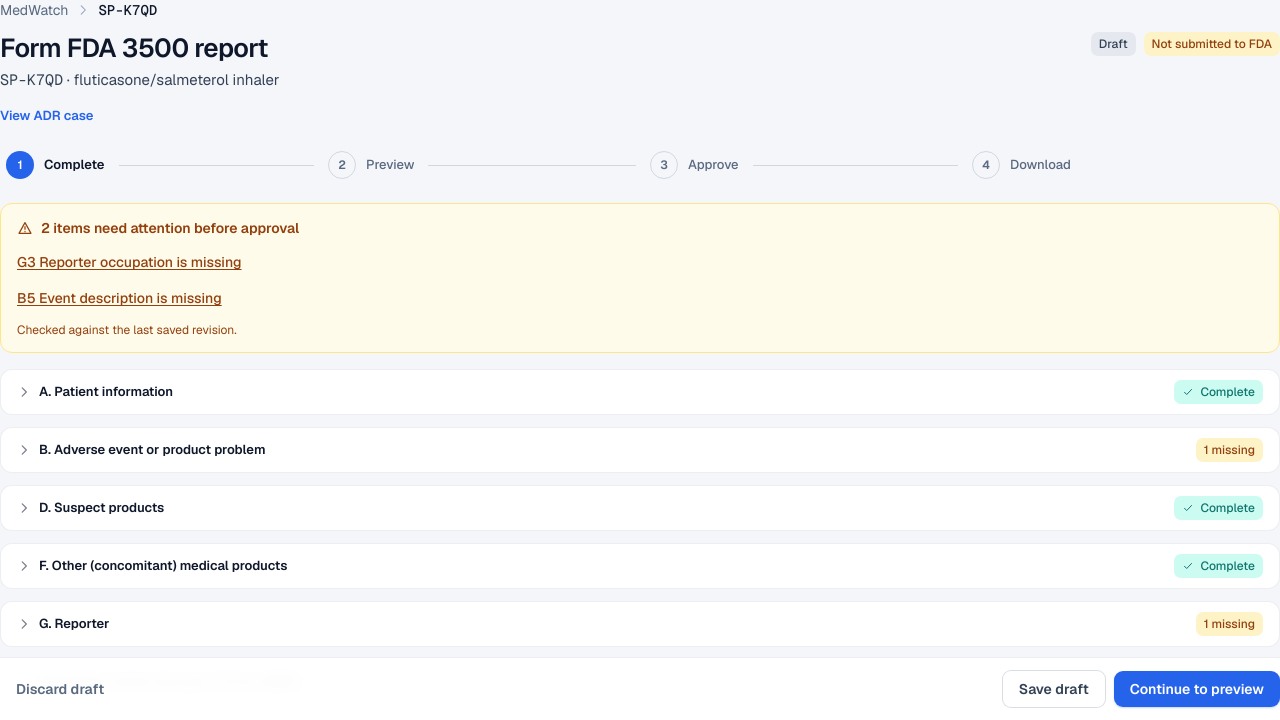
Test: MedWatch report workspace › blocks approval while gate issues remain and sends the user back to fix them
Check: the button "Continue to preview" is shown, box [1114,671,1279,707]
Click the button "3 Approve" at [694, 165], box [644,147,745,183]
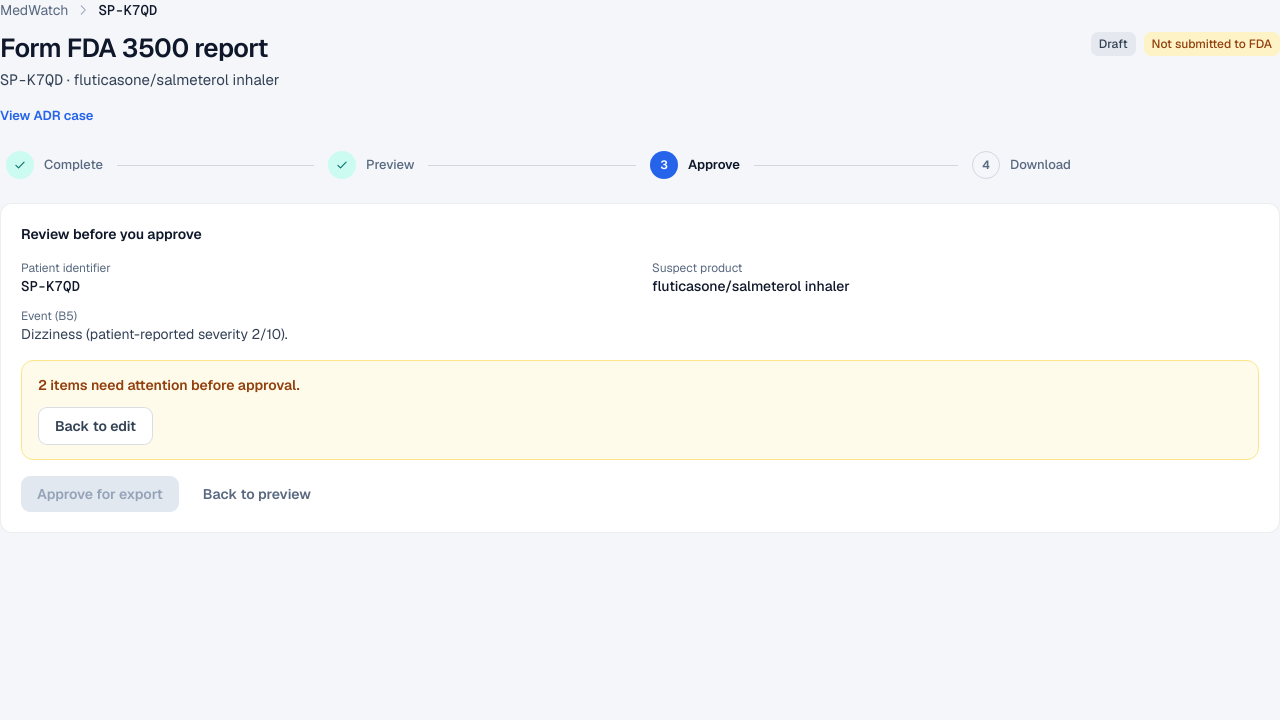
Check: the element showing "2 items need attention before approval. Back to edit" is shown, box [21,360,1259,460]
Check: the button "Approve for export" is disabled, box [21,476,179,512]
